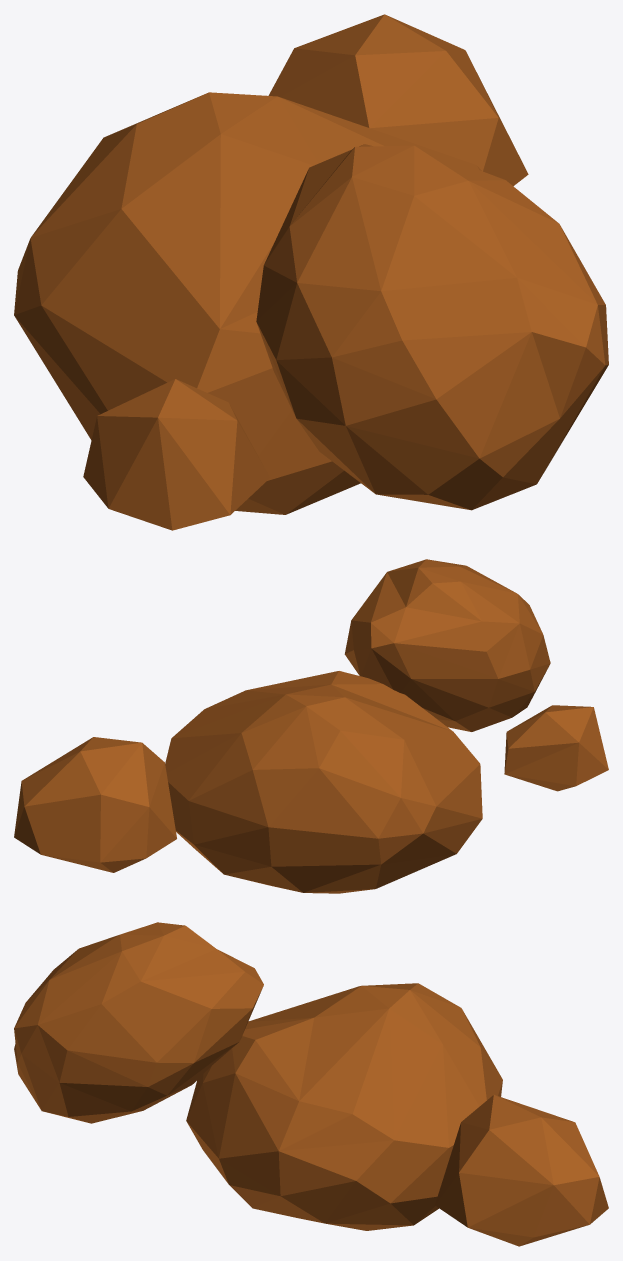
Rendered from stones2.fbx.
The picture shows the model from 3 angles, top to bottom: view 1: azimuth 30°, elevation 25°; view 2: azimuth 150°, elevation 25°; view 3: azimuth 270°, elevation 25°; orthographic projection. The views are drawn at different scales.
Parts seen in each view (by area): view 1: Stones2; view 2: Stones2; view 3: Stones2.
Boxes of the visible parts, box(x1,y1,x2,y2) form: Stones2: box(14, 14, 608, 530); Stones2: box(14, 559, 608, 893); Stones2: box(14, 922, 608, 1246).
Size of the model in its own units: 572 by 334 by 686.
